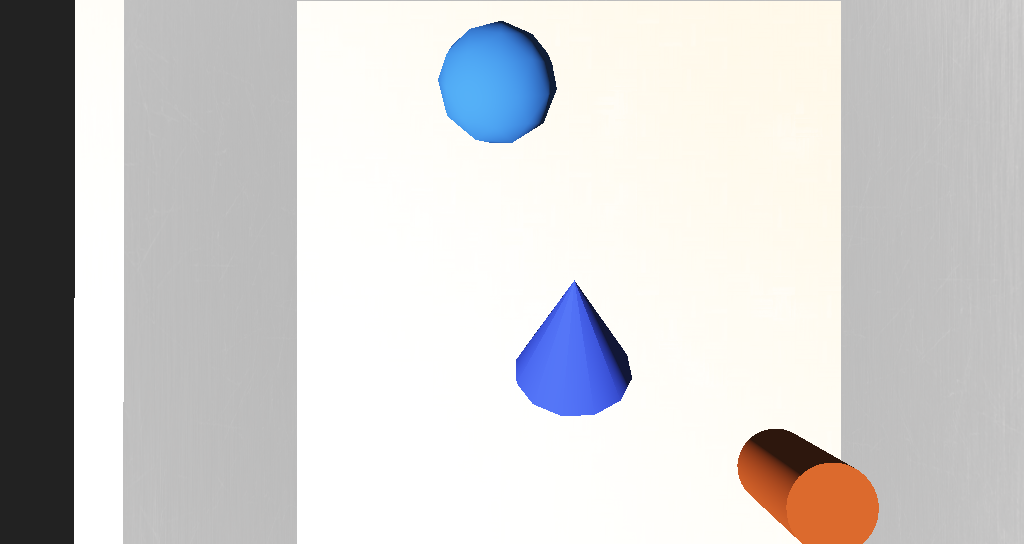cone: (600, 329, 653, 367)
cylinder: (465, 253, 546, 329)
sphere: (431, 179, 499, 222)
